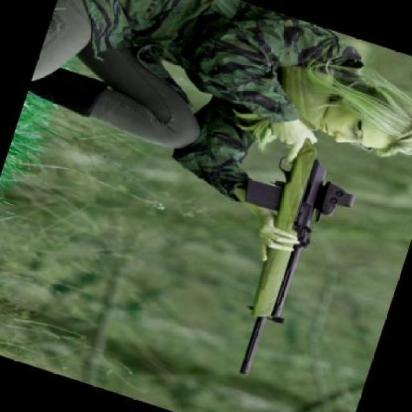Gun: (238, 132, 355, 376)
